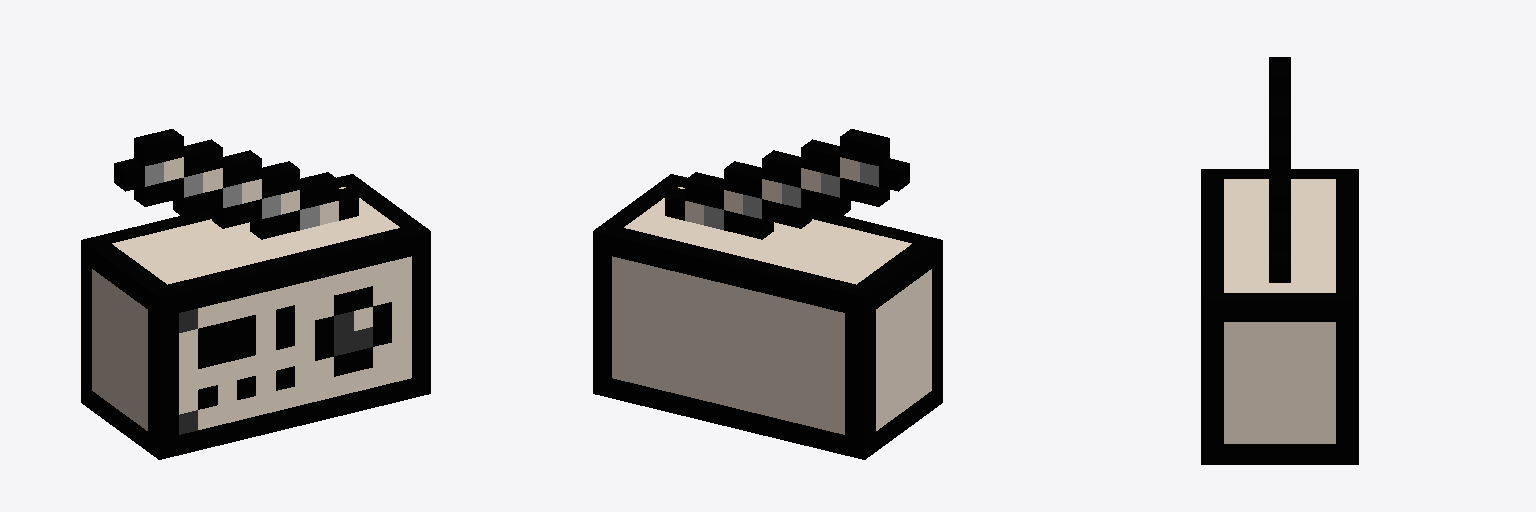
3 renders of one model, left to right at view 1: azimuth 30°, elevation 25°; view 2: azimuth 150°, elevation 25°; view 3: azimuth 270°, elevation 25°, orthographic.
Parts seen in each view (by area): view 1: Model; view 2: Model; view 3: Model.
Boxes of the visible parts, <box> form: Model: <box>81,129,430,459</box>; Model: <box>593,129,942,459</box>; Model: <box>1201,57,1358,464</box>.
Bounding box in the file's own units: 32 × 32 × 16.
1 materials, 1 textured.